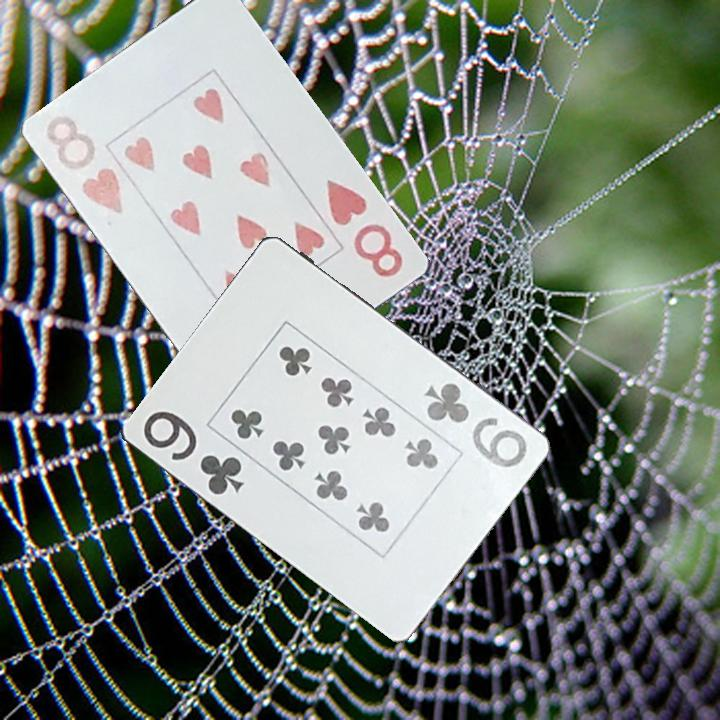8h: (320, 176, 407, 281), (43, 112, 127, 217)
9c: (419, 379, 530, 471), (138, 407, 248, 499)
